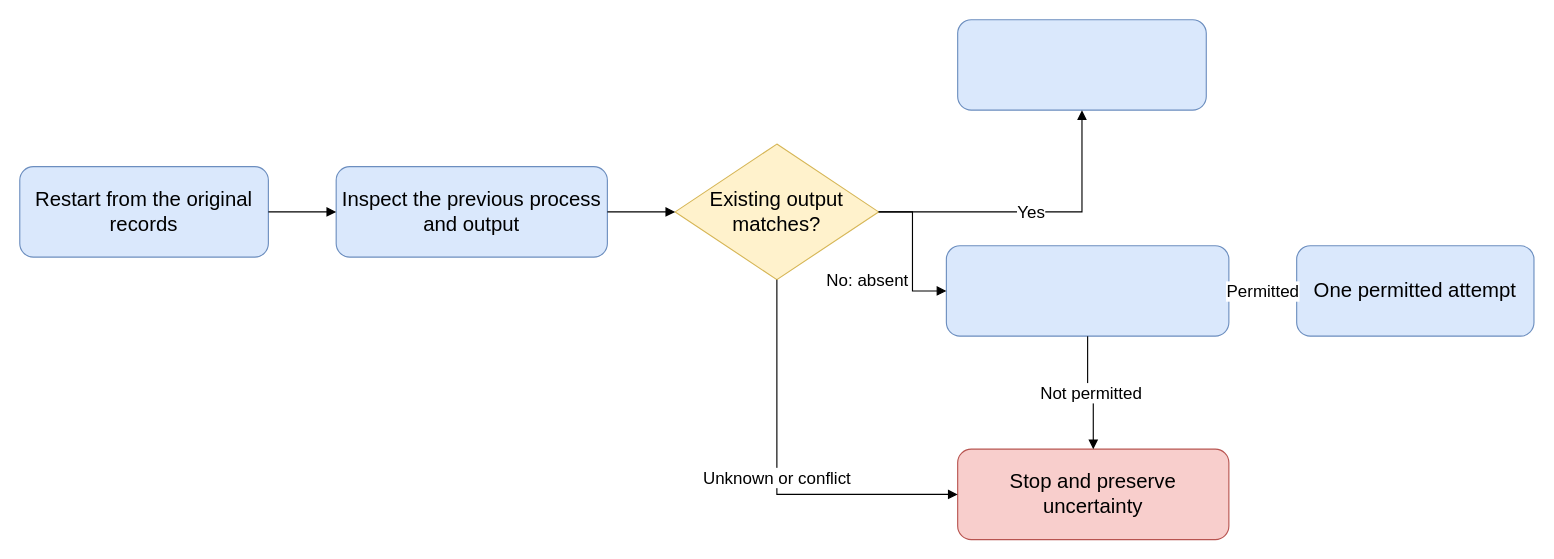
Image size: 1554x559. Some labels were removed from this diagram. Each missing label, with the centre of its shape:
"Finish the missing record" goes at (1081,64).
"Recheck authority, owner and allowance" goes at (1087,290).
